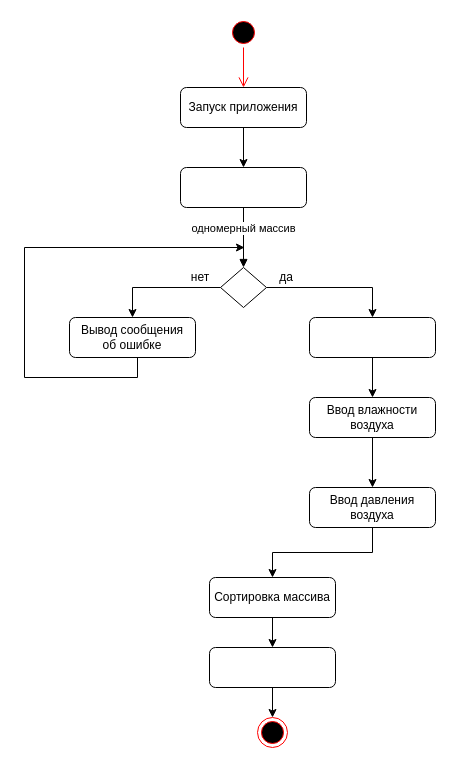
Image size: 453x765. Some labels were removed from this diagram. The centre of each missing label's shape, as x and y in pixels:
Ввод массива: the point at 243,187
Ввод температуры воздуха: the point at 372,337
Сохранение в файл: the point at 272,667
